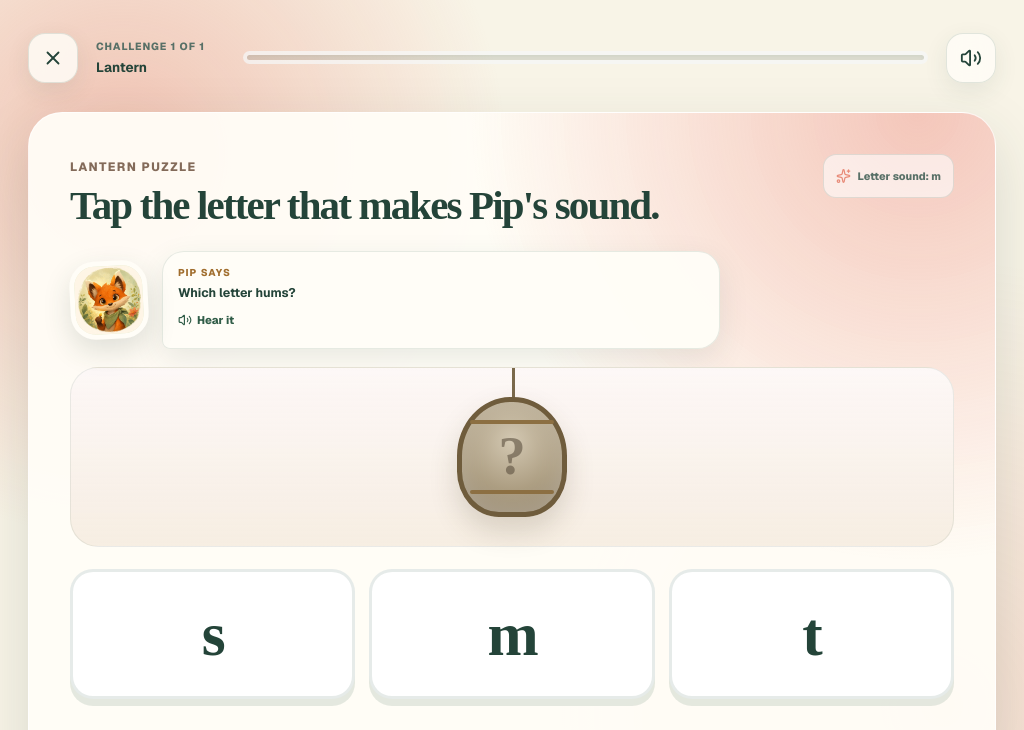
it: answer leakage › lights the lantern with the letter only after a correct answer
Click the button "m" at coordinates (512, 634), box [369, 569, 655, 699]
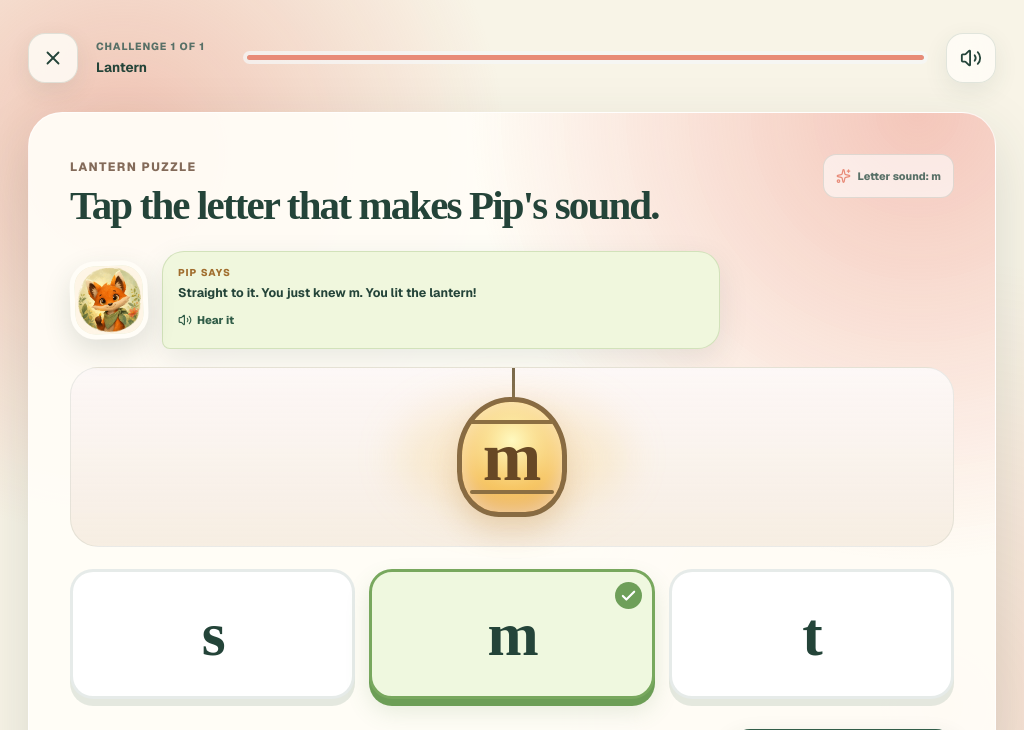
expect the text with class "letter-lantern" reads "m": met, box [483, 417, 541, 495]
